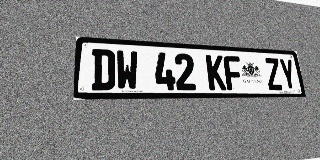2: (174, 53, 196, 90)
4: (154, 52, 176, 90)
D: (91, 49, 115, 90)
F: (223, 56, 244, 90)
K: (206, 55, 226, 90)
W: (116, 50, 139, 90)
Y: (278, 58, 298, 90)
Z: (264, 58, 283, 90)
